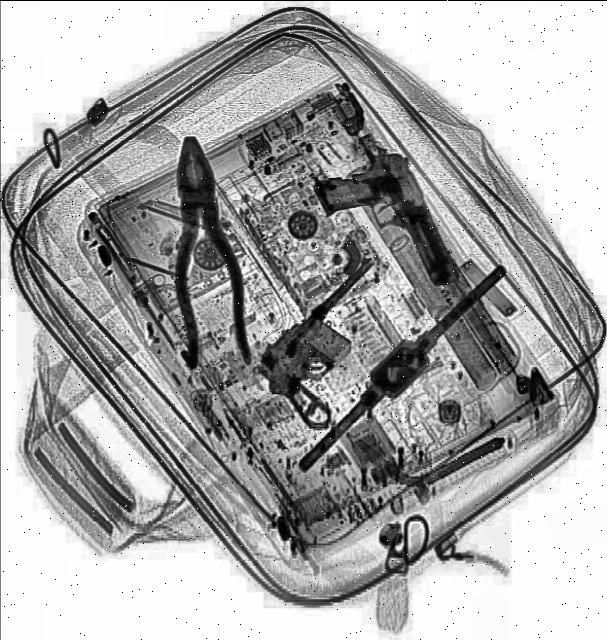Gun: (244, 249, 432, 435), (306, 140, 462, 318)
Pliers: (149, 132, 253, 372)
